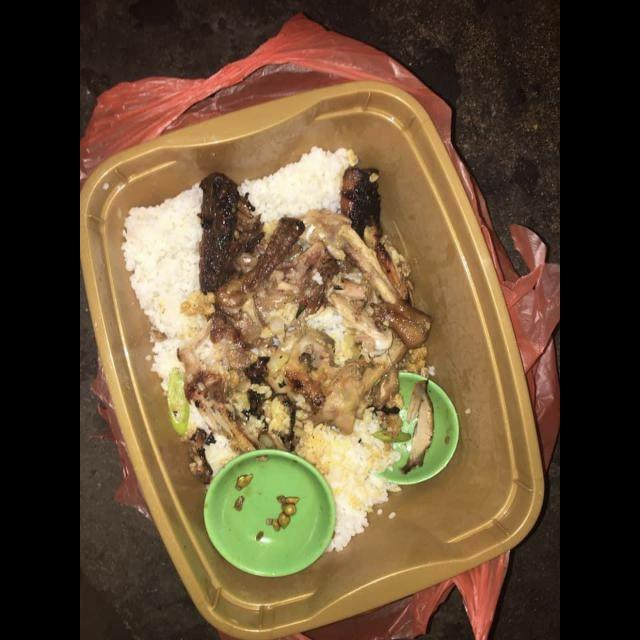left_over_food: (177, 265, 299, 453), (303, 209, 431, 348), (124, 190, 211, 390), (293, 406, 402, 549), (259, 281, 393, 390), (197, 173, 305, 307), (217, 243, 343, 356), (299, 331, 409, 434), (240, 148, 360, 234), (338, 167, 411, 299), (284, 340, 327, 453), (187, 399, 238, 475), (402, 382, 433, 474)
